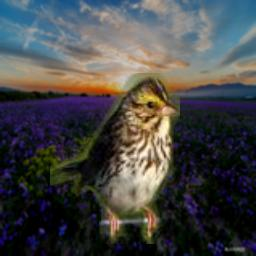Sparrow: (50, 73, 180, 244)
